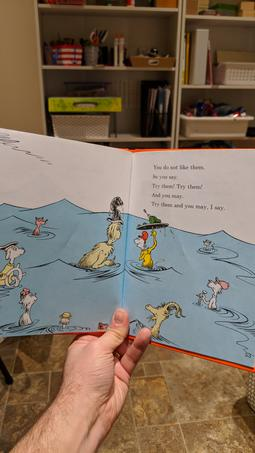text block: (141, 159, 229, 212)
